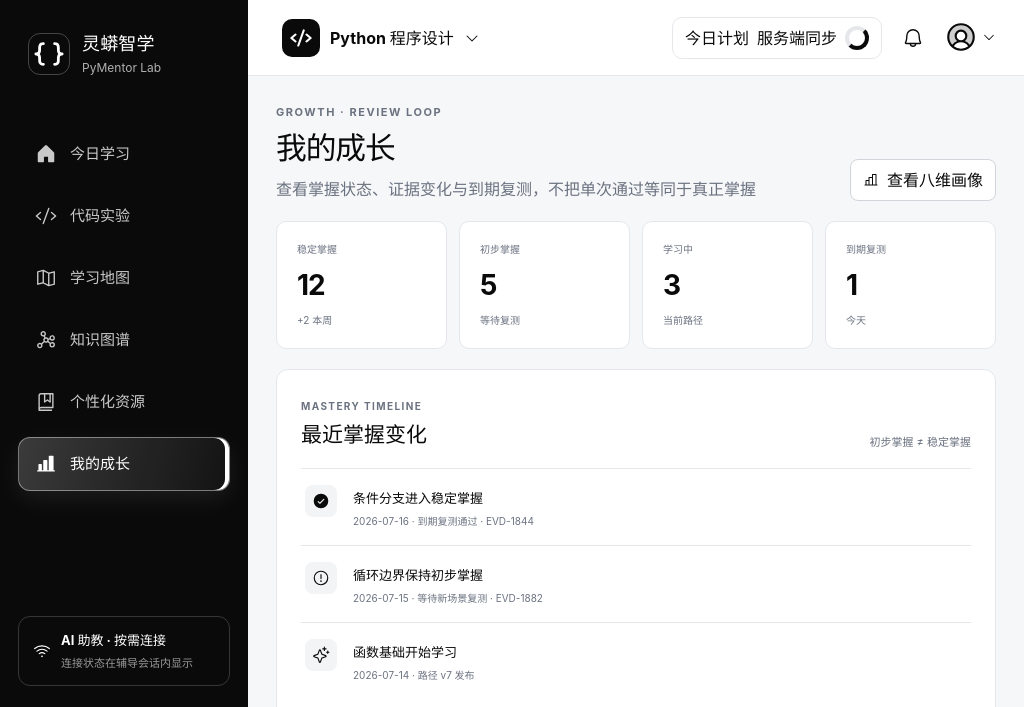
Test case: student header button wiring (Stage C) › navigates to the today page when 今日计划 is clicked
The width and height of the screenshot is (1024, 707).
Click the button "今日计划 服务端同步" at [777, 38], box [672, 16, 882, 58]
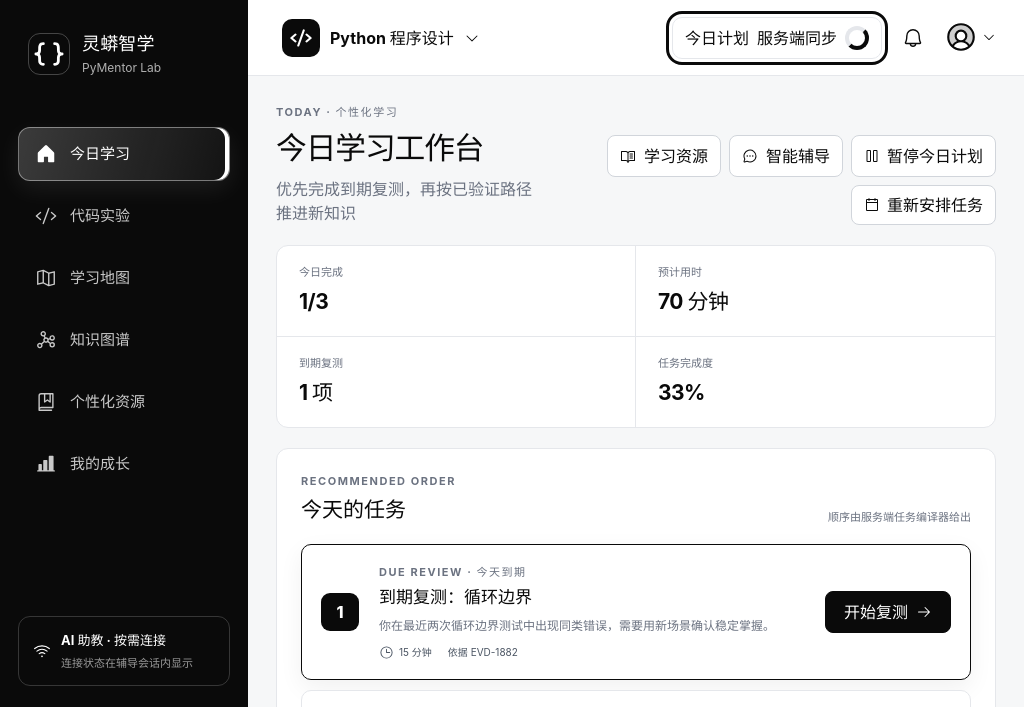
Expected: the heading "今日学习工作台" is shown, [276, 128, 484, 166]
